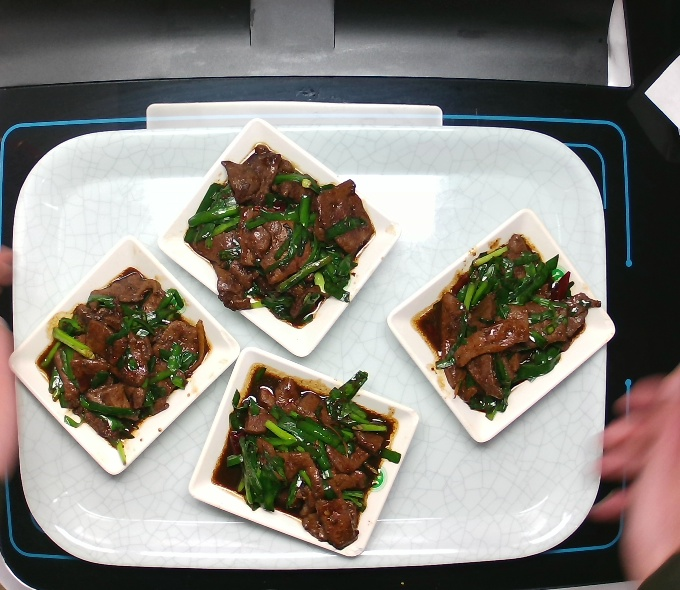wcq-ZhuGan: (411, 231, 603, 421), (208, 359, 399, 549), (186, 137, 372, 331), (36, 259, 222, 453)
